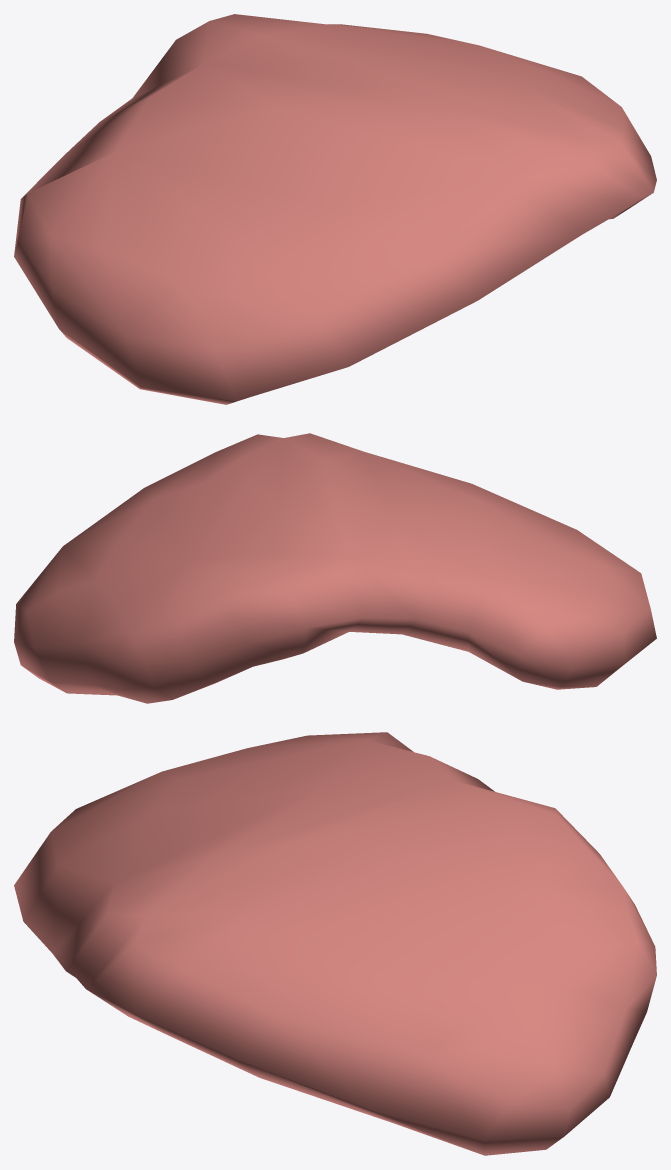
The picture shows the model from 3 angles, top to bottom: view 1: azimuth 30°, elevation 25°; view 2: azimuth 150°, elevation 25°; view 3: azimuth 270°, elevation 25°; orthographic projection. The views are drawn at different scales.
Parts seen in each view (by area): view 1: ZA_521ecd52f6ace474; view 2: ZA_521ecd52f6ace474; view 3: ZA_521ecd52f6ace474.
Boxes of the visible parts, bbox=[...] form: ZA_521ecd52f6ace474: bbox=[14, 14, 656, 404]; ZA_521ecd52f6ace474: bbox=[14, 433, 656, 703]; ZA_521ecd52f6ace474: bbox=[14, 732, 656, 1155].
Bounding box in the file's own units: 0.00292 × 0.000883 × 0.00252.
